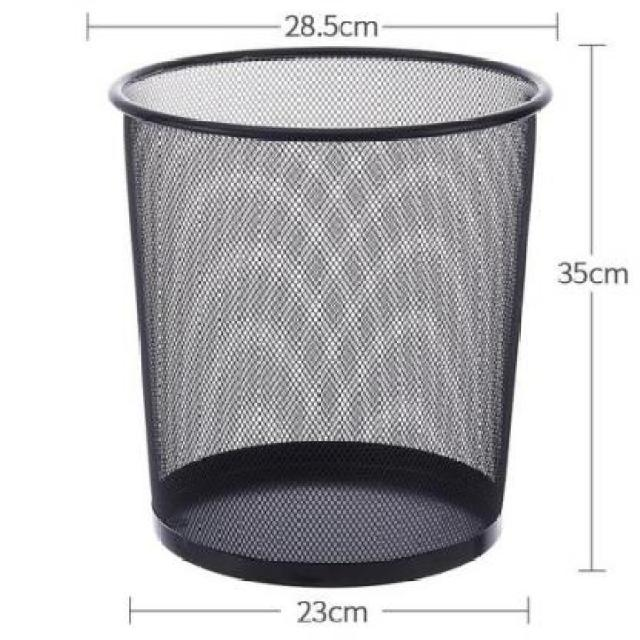dustbin: (106, 43, 558, 595)
